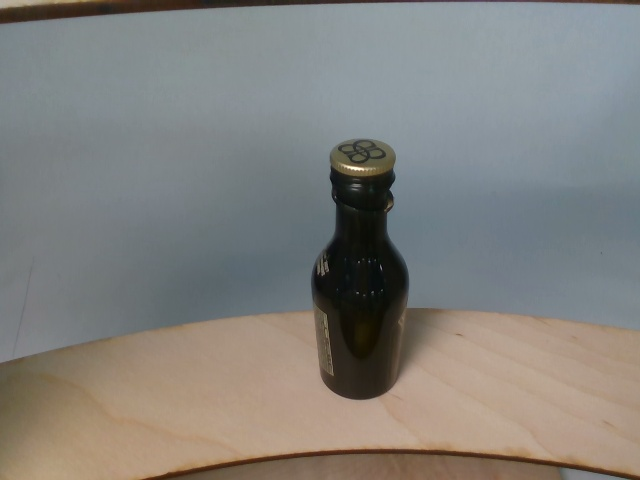coke: (309, 138, 409, 399)
